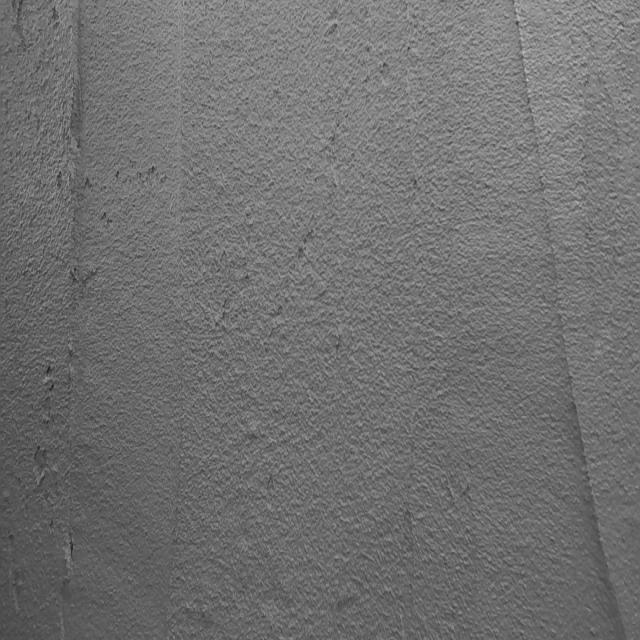trowels marks: (516, 14, 614, 640), (59, 6, 89, 341)
